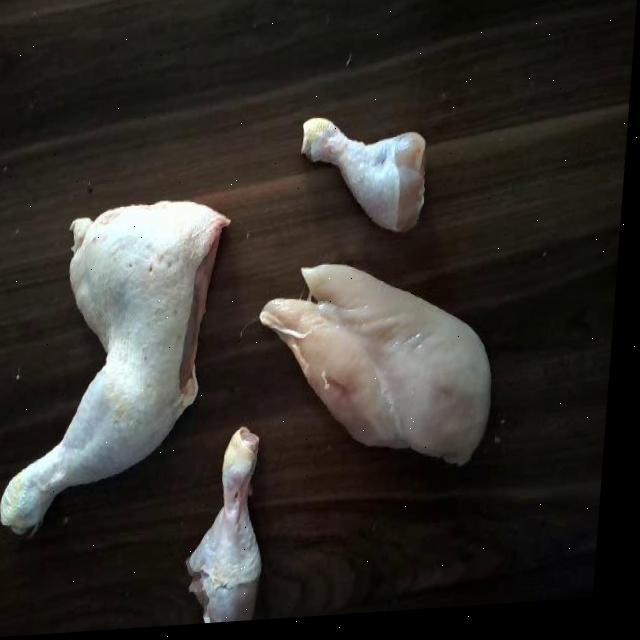breast: (259, 251, 517, 493)
leg: (290, 113, 438, 242), (200, 424, 282, 628)
quater: (0, 200, 233, 546)
